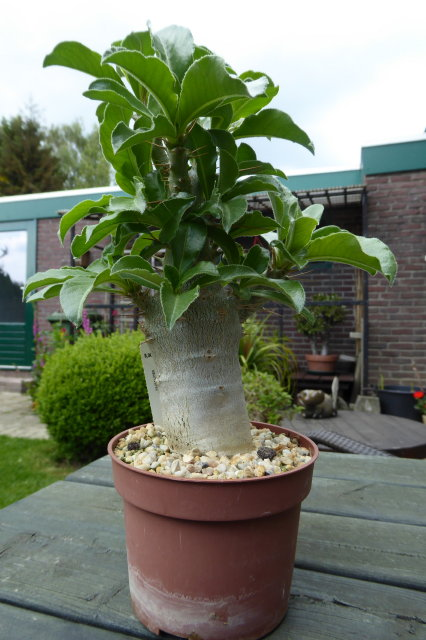Pachypodium saundersii: (31, 22, 402, 464)
